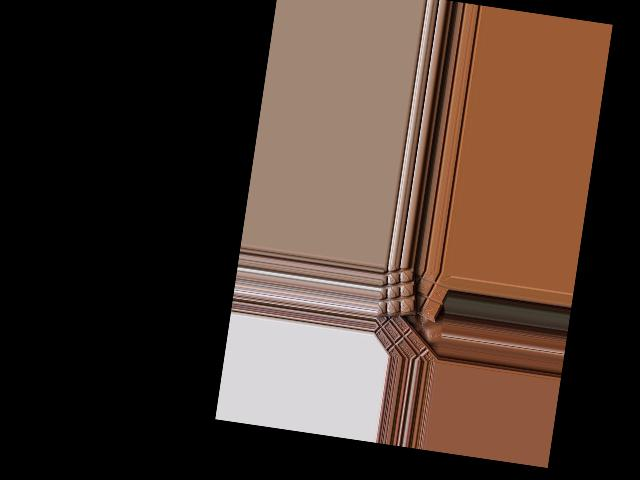chocolate: (401, 267, 447, 322)
